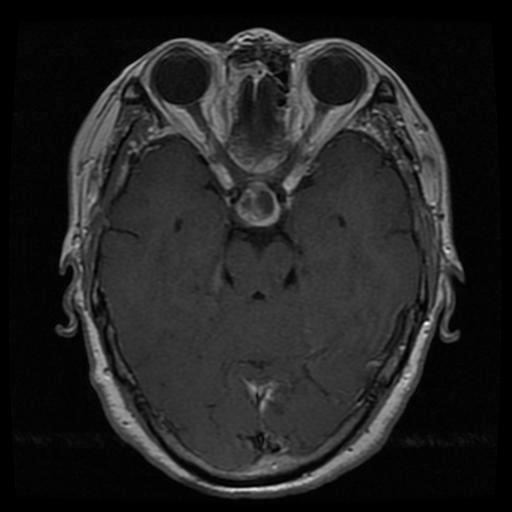Tumour-Pituitary: (233, 183, 279, 230)
